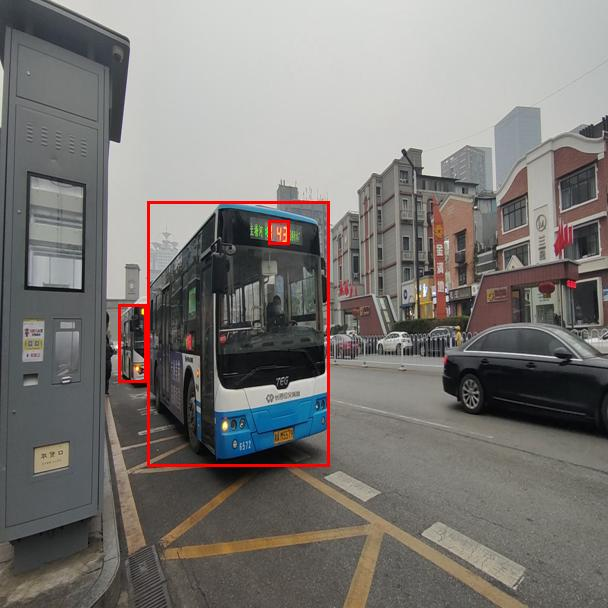bus: (147, 201, 329, 466), (118, 304, 146, 382)
screen: (268, 220, 289, 244)
